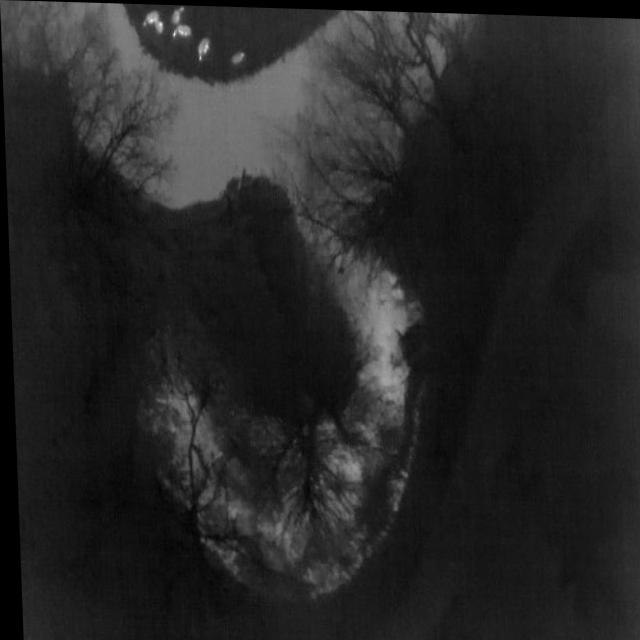deer: (142, 9, 161, 26), (196, 37, 210, 60), (172, 24, 193, 38), (170, 5, 185, 23), (231, 51, 245, 64), (154, 21, 164, 35)
